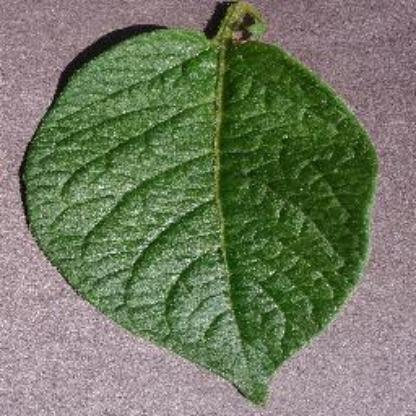Healthy-plant: (20, 3, 384, 404)
